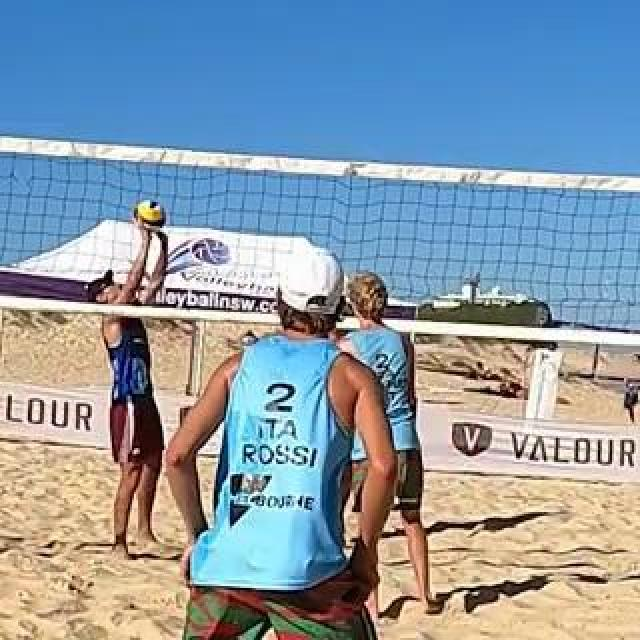volleyball: (135, 200, 165, 230)
